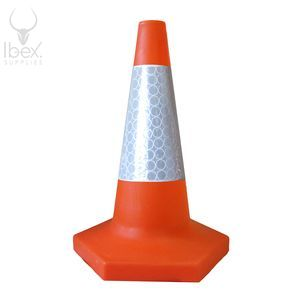cones: (71, 21, 231, 284)
